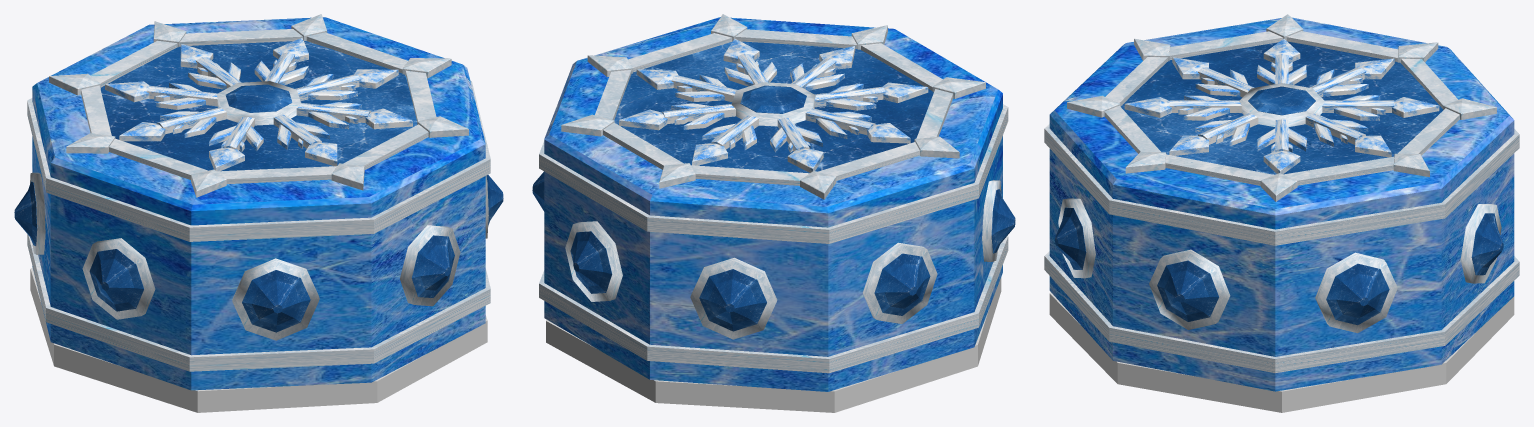
Rendered from snow.m.fbx.
3 renders of one model, left to right at view 1: azimuth 30°, elevation 25°; view 2: azimuth 150°, elevation 25°; view 3: azimuth 270°, elevation 25°, orthographic.
Parts seen in each view (by area): view 1: Cylinder, Cube.008, Cylinder.006, Cylinder.005, Cube.001, Cylinder.014, Cylinder.009, Cylinder.002, Cube.002; view 2: Cylinder, Cube.008, Cylinder.006, Cylinder.005, Cube.001, Cylinder.014, Cylinder.009, Cylinder.002, Cube.002; view 3: Cylinder, Cube.008, Cylinder.006, Cylinder.005, Cube.001, Cylinder.014, Cylinder.009, Cylinder.002, Cube.002.
Boxes of the visible parts, bbox=[...] form: Cylinder: bbox=[32, 17, 485, 390]; Cube.008: bbox=[27, 80, 490, 371]; Cylinder.006: bbox=[100, 41, 417, 171]; Cylinder.005: bbox=[49, 14, 468, 197]; Cube.001: bbox=[105, 37, 412, 171]; Cylinder.014: bbox=[30, 267, 487, 412]; Cylinder.009: bbox=[14, 175, 503, 332]; Cylinder.002: bbox=[225, 84, 292, 112]; Cube.002: bbox=[217, 81, 301, 125]; Cylinder: bbox=[544, 17, 1002, 391]; Cube.008: bbox=[539, 104, 1008, 373]; Cylinder.006: bbox=[614, 41, 933, 173]; Cylinder.005: bbox=[561, 14, 985, 199]; Cube.001: bbox=[619, 38, 928, 172]; Cylinder.014: bbox=[546, 277, 1001, 412]; Cylinder.009: bbox=[532, 171, 1015, 331]; Cylinder.002: bbox=[740, 85, 806, 113]; Cube.002: bbox=[731, 82, 815, 126]; Cylinder: bbox=[1049, 17, 1514, 391]; Cube.008: bbox=[1044, 124, 1519, 373]; Cylinder.006: bbox=[1121, 41, 1443, 174]; Cylinder.005: bbox=[1067, 14, 1496, 201]; Cube.001: bbox=[1124, 39, 1439, 174]; Cylinder.014: bbox=[1049, 292, 1514, 412]; Cylinder.009: bbox=[1055, 207, 1503, 325]; Cylinder.002: bbox=[1248, 86, 1315, 115]; Cube.002: bbox=[1239, 83, 1324, 126].
Bounding box in the file's own units: 204 × 103 × 204.
